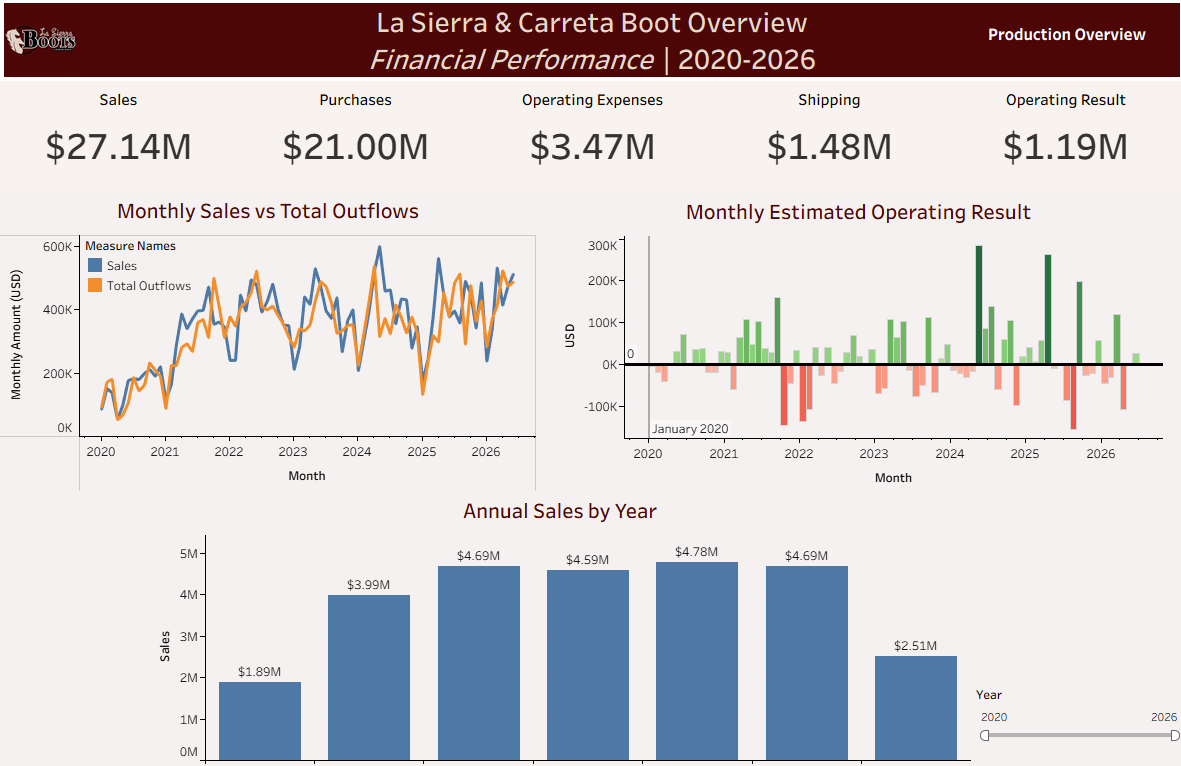

The dashboard page shown, as its layout file describes it:
{"tool":"tableau","page":{"name":"Executive Overview","canvas":[1200,800],"ordinal":0},"visuals":[{"type":"title","box":[8,8,1184,82]},{"type":"dashboard-object","box":[965,17,221,53]},{"type":"worksheet","title":"Sales","mark":"Automatic","box":[8,90,237,110]},{"type":"worksheet","title":"Purchases","mark":"Automatic","box":[245,90,237,110]},{"type":"worksheet","title":"Operating Expenses","mark":"Automatic","box":[482,90,237,110]},{"type":"worksheet","title":"Shipping","mark":"Automatic","box":[719,90,237,110]},{"type":"worksheet","title":"Est. Operating Result","mark":"Automatic","box":[956,90,236,110]},{"type":"worksheet","title":"Monthly Sales vs Total Outflows","mark":"Automatic","rows":["Sales","Total Outflows"],"cols":["Date"],"box":[8,201,536,300]},{"type":"worksheet","title":"Monthly Operating Results","mark":"Bar","rows":["Estimated Operating Result"],"cols":["Date"],"box":[562,202,609,300]},{"type":"legend","title":"Monthly Sales vs Total Outflows","param":"[federated.177eghi13o7cf81cfa74e1or4yow].[:Measure Names]","box":[93,246,114,64]},{"type":"worksheet","title":"Years Sales trend","mark":"Bar","rows":["Sales"],"cols":["Calculation_0650117805379584"],"box":[157,501,822,289]}]}

Visuals, with their boxes in screenshot pixels (x1, y1, x2, y2), scaled from the page's 1200x800 canvas onto the 1181x766 screenshot:
title: left=8, top=8, right=1173, bottom=86
dashboard-object: left=950, top=16, right=1167, bottom=67
"Sales" worksheet: left=8, top=86, right=241, bottom=192
"Purchases" worksheet: left=241, top=86, right=474, bottom=192
"Operating Expenses" worksheet: left=474, top=86, right=708, bottom=192
"Shipping" worksheet: left=708, top=86, right=941, bottom=192
"Est. Operating Result" worksheet: left=941, top=86, right=1173, bottom=192
"Monthly Sales vs Total Outflows" worksheet: left=8, top=192, right=535, bottom=480
"Monthly Operating Results" worksheet (Bar marks): left=553, top=193, right=1152, bottom=481
"Monthly Sales vs Total Outflows" legend: left=92, top=236, right=204, bottom=297
"Years Sales trend" worksheet (Bar marks): left=155, top=480, right=963, bottom=756
